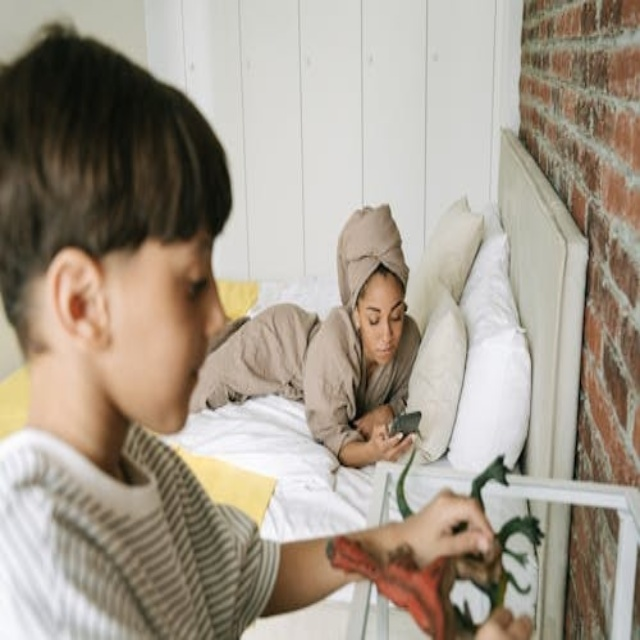Sin_gafas: (137, 238, 221, 302), (358, 294, 410, 331)
Sin_guantes: (397, 487, 499, 570), (373, 423, 416, 464)
Sin_mascara: (150, 338, 216, 434), (367, 340, 397, 363)
